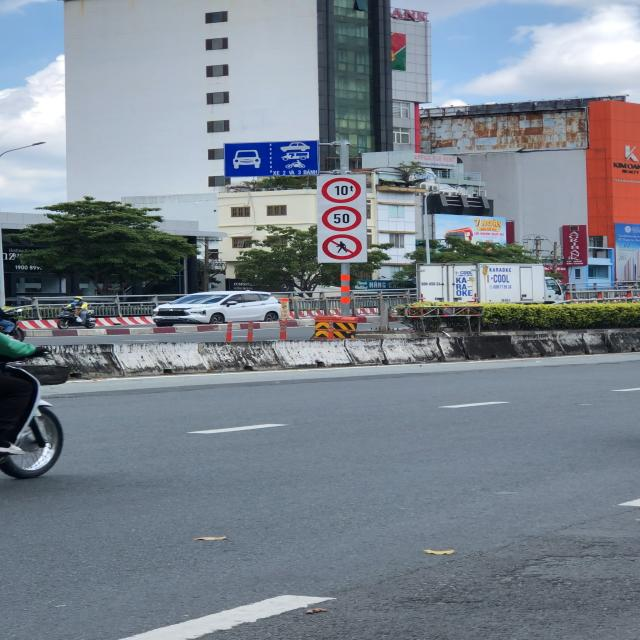Bien bao cam nguoi di bo: (320, 232, 366, 262)
Bien bao toc do toi da cho phep: (322, 204, 364, 232)
